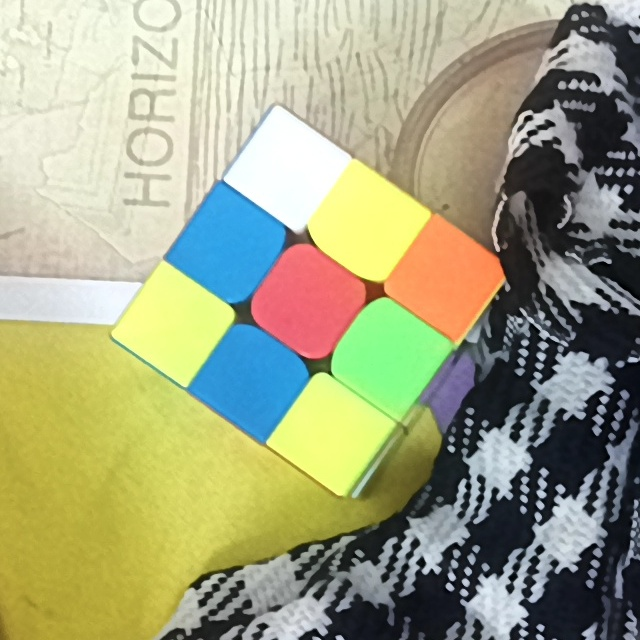tile: (254, 138, 325, 202), (274, 270, 341, 337), (412, 245, 482, 309), (197, 212, 263, 278), (335, 195, 401, 261), (353, 325, 419, 389), (302, 400, 363, 468), (222, 349, 285, 414), (147, 294, 205, 357)
